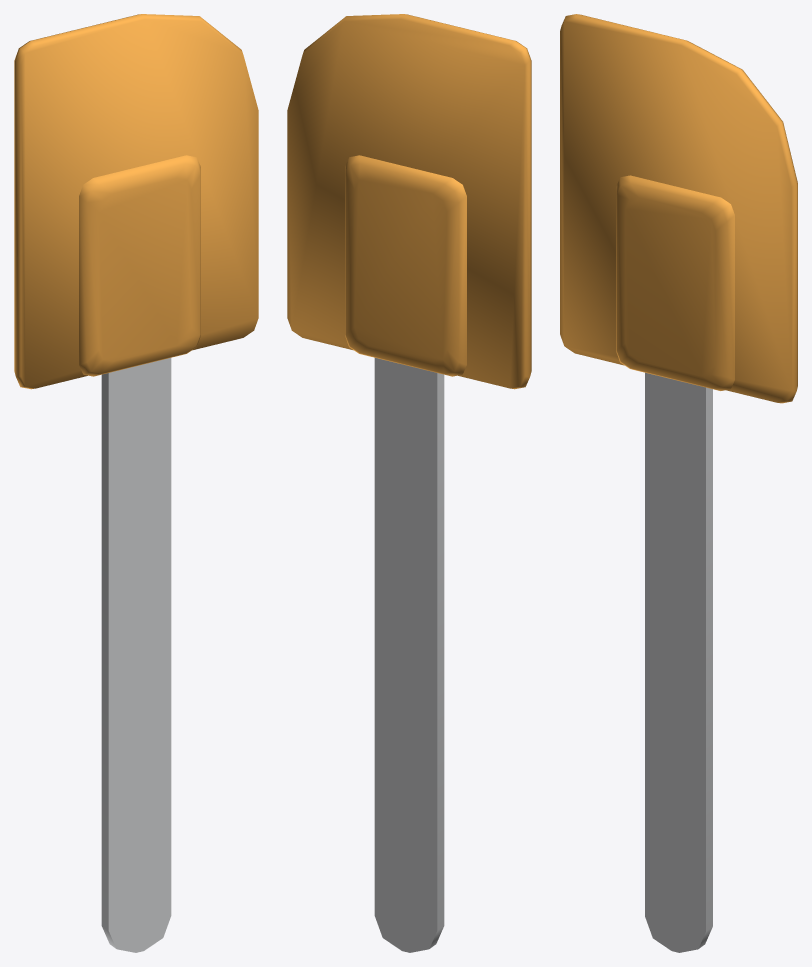
The model's file is cutensils_spatula_rubber_yellow.glb.
3 views of the same model, side by side, from view 1: azimuth 30°, elevation 25°; view 2: azimuth 150°, elevation 25°; view 3: azimuth 330°, elevation 25° (orthographic). The views are drawn at different scales.
Visible parts, largest first — view 1: cutensils spatula rubber yellow; view 2: cutensils spatula rubber yellow; view 3: cutensils spatula rubber yellow.
Part boxes in pixels (x1,y1,x2,y2): cutensils spatula rubber yellow: (14,14,258,952); cutensils spatula rubber yellow: (287,14,531,952); cutensils spatula rubber yellow: (560,14,797,952).
Bounding box in the file's own units: 1.86 × 6.88 × 0.2312.
Materials: 1 (1 with a texture image).
